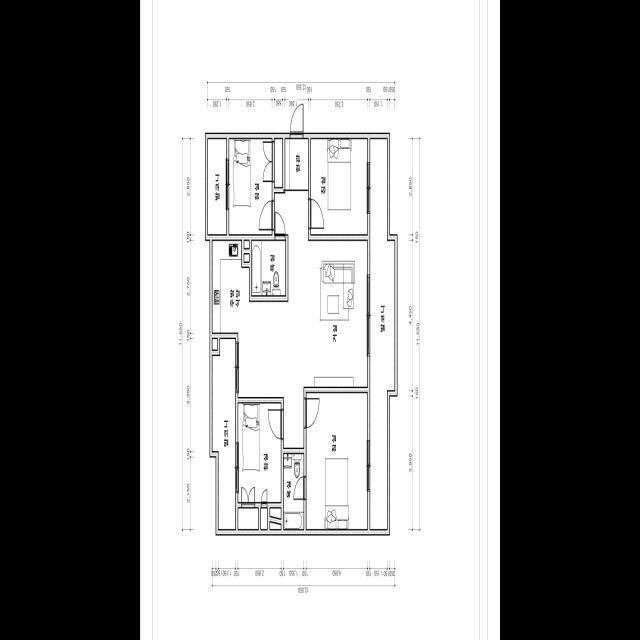background: (140, 0, 500, 640)
space_balconi: (370, 138, 395, 529), (212, 338, 235, 529), (208, 138, 226, 234)
space_bedroom: (306, 392, 367, 529), (311, 138, 367, 234), (238, 403, 281, 502), (229, 138, 272, 234), (238, 508, 258, 529), (275, 138, 282, 187), (261, 508, 267, 529)
space_front: (285, 138, 308, 190)
space_kitchen: (212, 240, 288, 397)
space_living_room: (275, 190, 367, 448)
space_other: (270, 508, 281, 518), (270, 522, 281, 529), (212, 338, 217, 349), (244, 240, 249, 248), (244, 254, 249, 261)
space_toilet: (252, 240, 286, 295), (284, 453, 304, 529)
